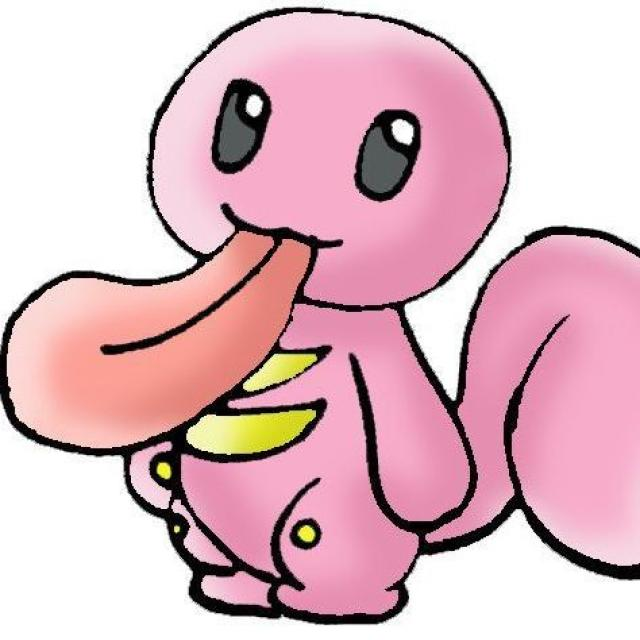Lickitung: (26, 6, 555, 636)
